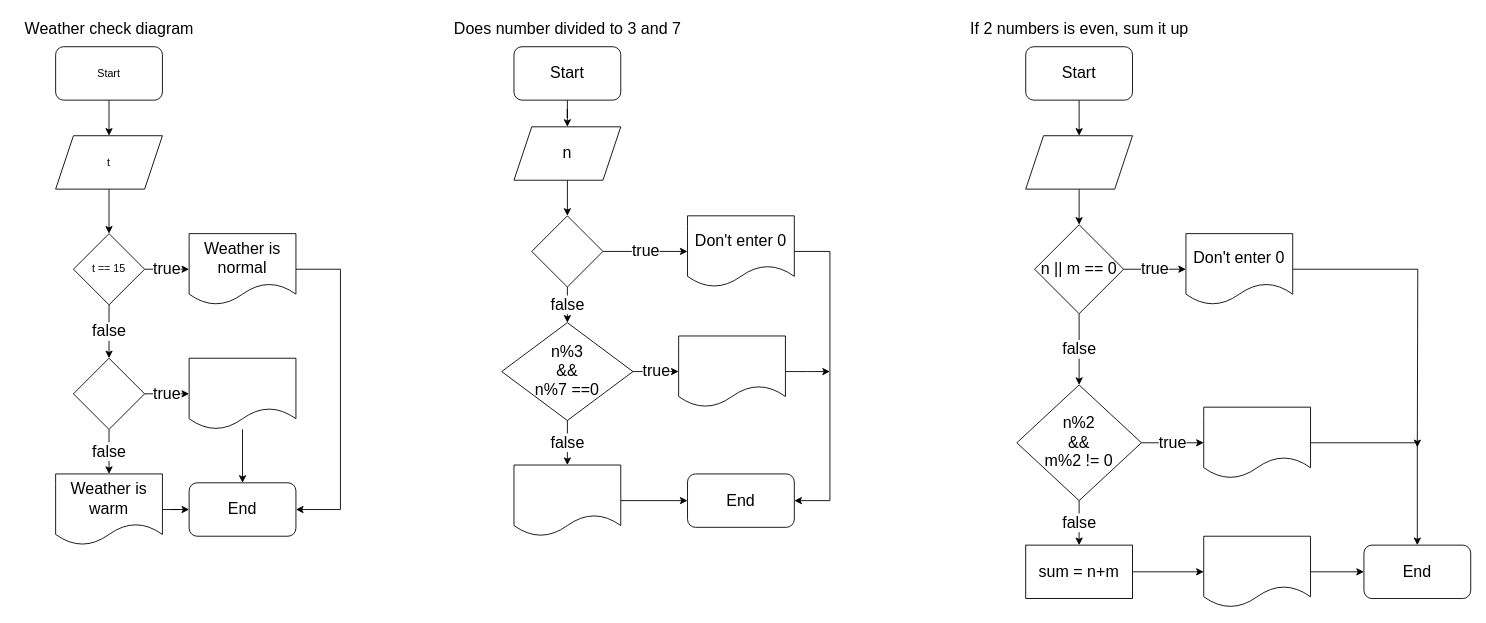
Some shapes in this 1486 by 623 pixel diagram are drawn without their labels. The centre of each missing label's shape, as x and y in pixels:
n == 0: pixel 567 251
n;m;sum: pixel 1079 162
Number is divided to 3 and 7: pixel 731 371
Number is not divided to 3 and 7: pixel 567 500
sum: pixel 1257 571
t < 15: pixel 109 393
Variable n or m is not even: pixel 1257 442
Weather is cold: pixel 242 393
